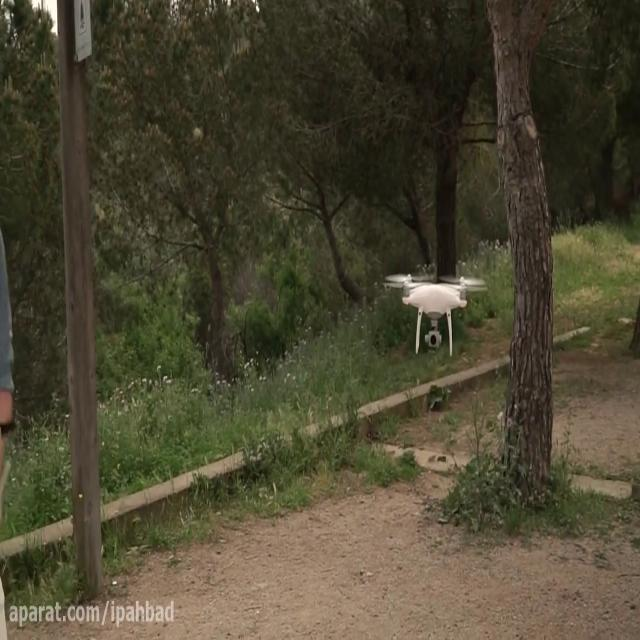drone: (377, 270, 487, 356)
